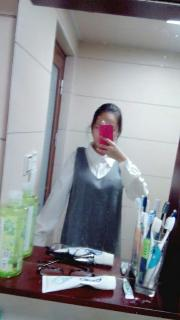long sleeve top: (33, 142, 148, 246)
vest: (59, 146, 125, 257)
